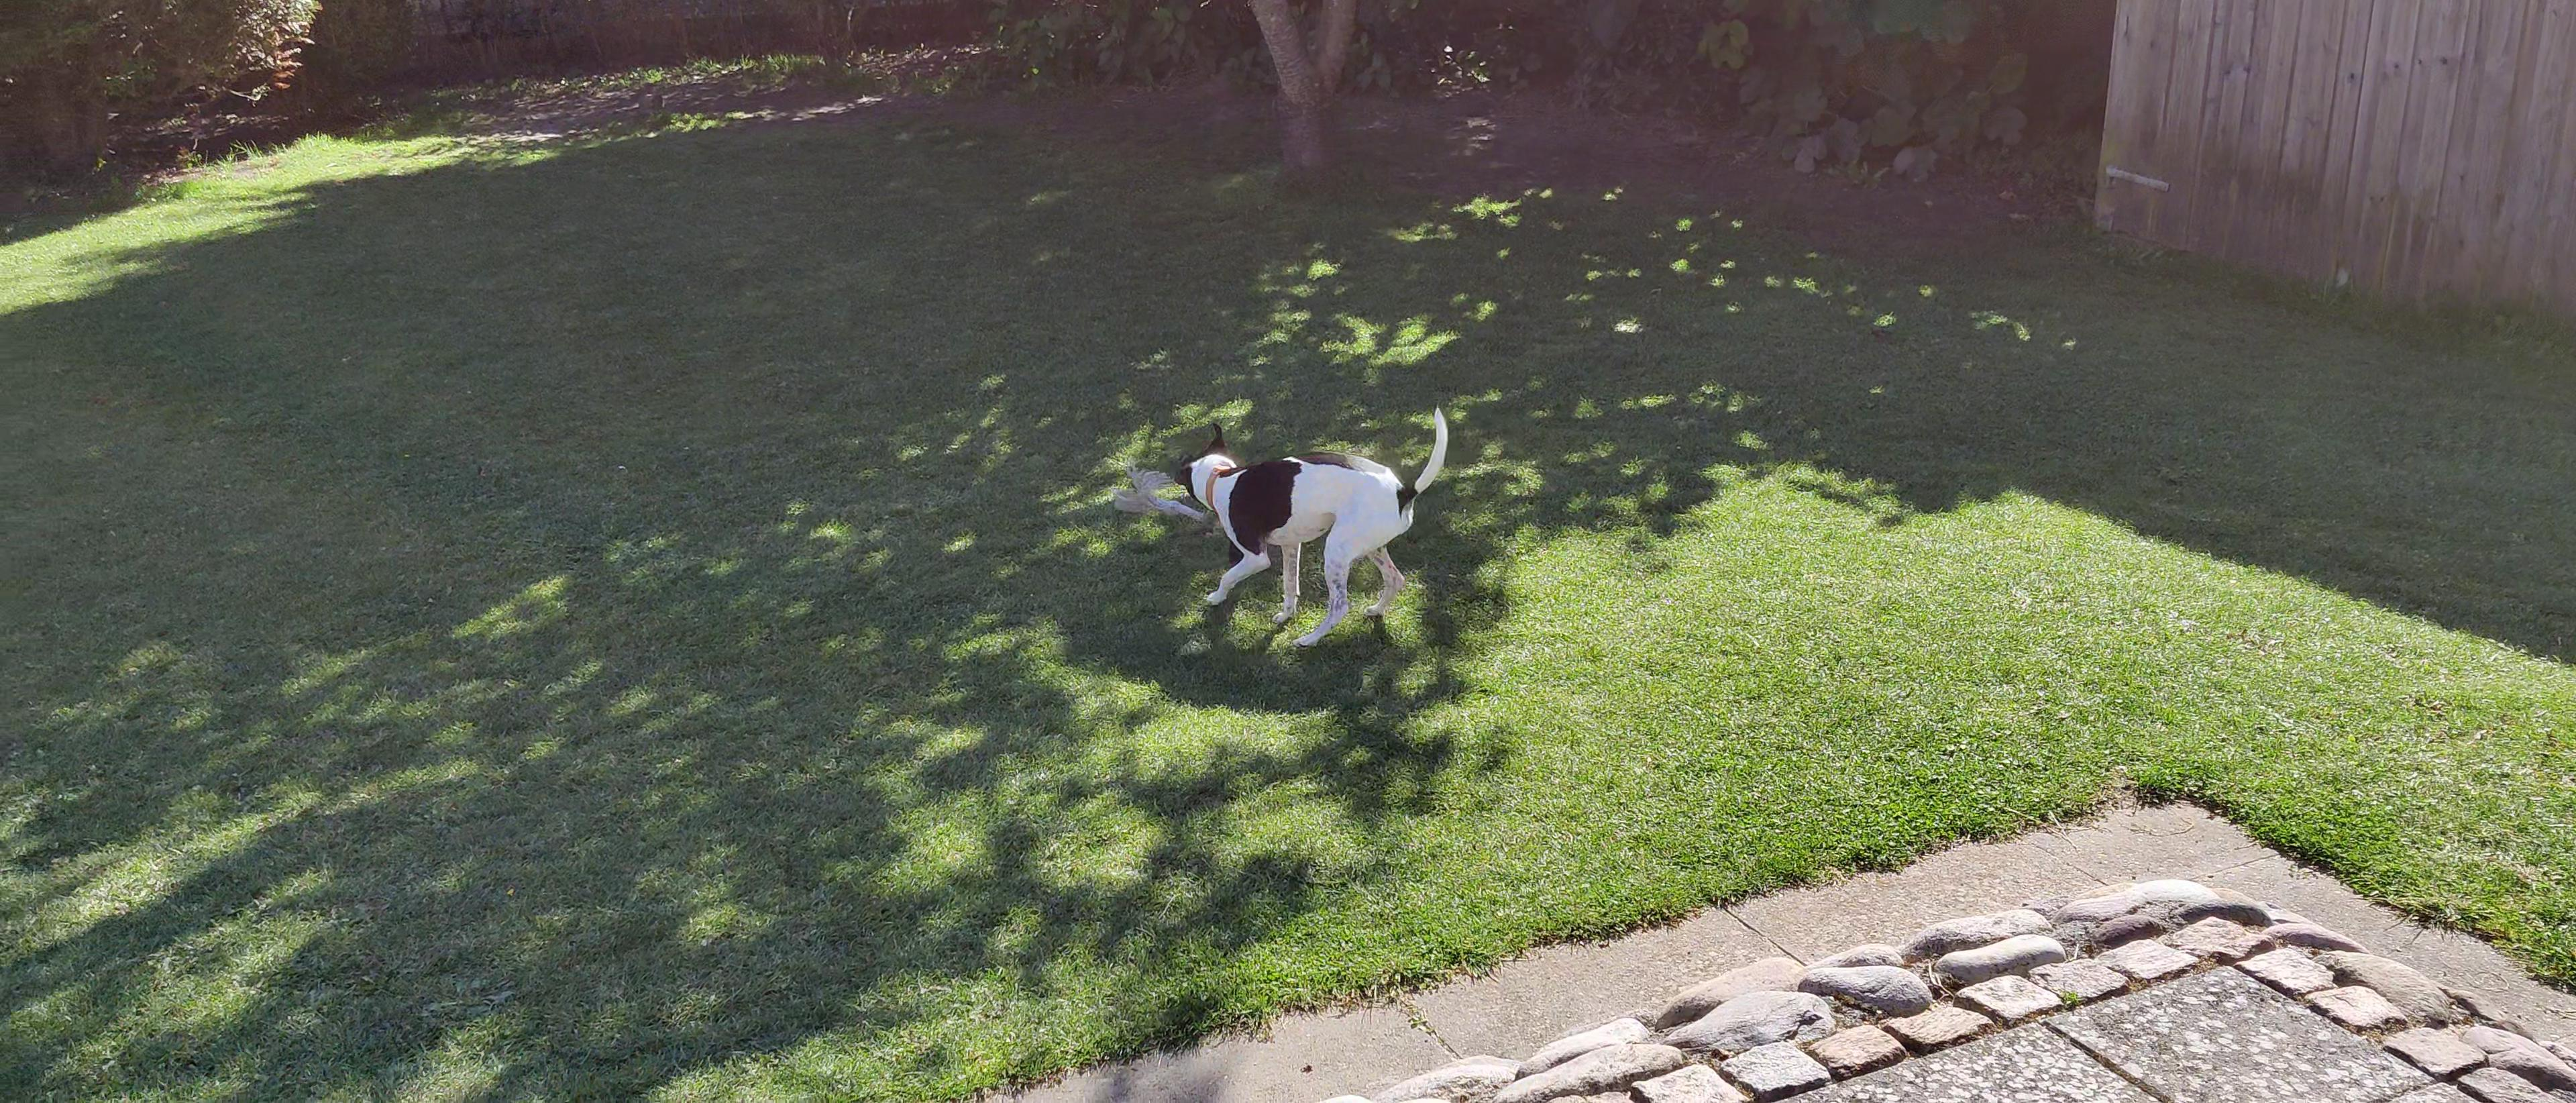Dog: (1170, 399, 1456, 648)
